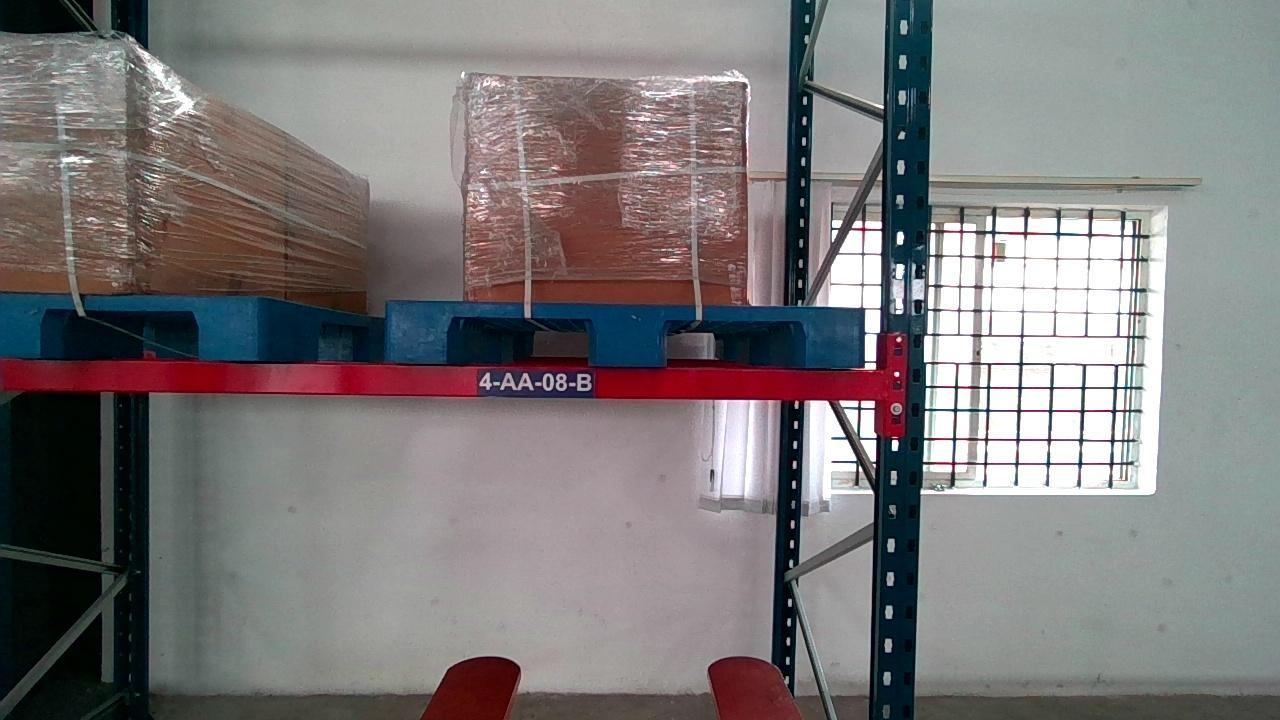h_rack: (2, 360, 888, 401)
small_pallet: (386, 302, 859, 364), (3, 293, 261, 360)
